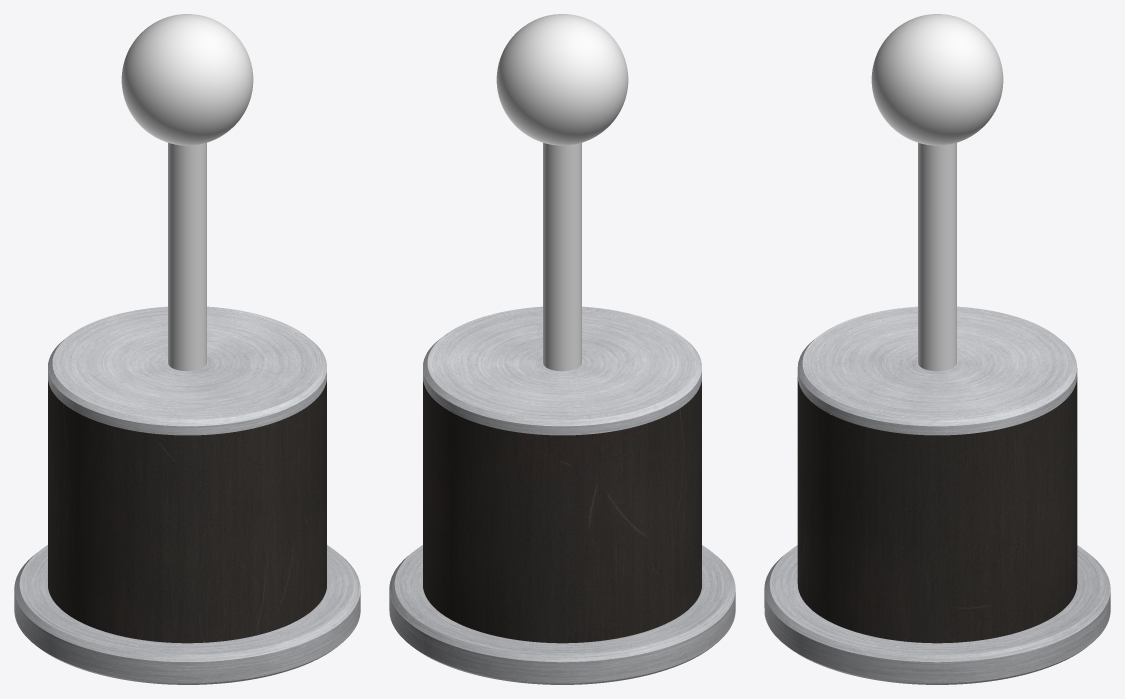
The model's file is pawn-black-hd.glb.
3 renders of one model, left to right at view 1: azimuth 30°, elevation 25°; view 2: azimuth 150°, elevation 25°; view 3: azimuth 270°, elevation 25°, orthographic.
Visible parts, largest first — view 1: ferro-orbis_pawn_black; view 2: ferro-orbis_pawn_black; view 3: ferro-orbis_pawn_black.
Part boxes in pixels (<box>): ferro-orbis_pawn_black: <box>14,14,360,684</box>; ferro-orbis_pawn_black: <box>389,14,735,684</box>; ferro-orbis_pawn_black: <box>764,14,1110,684</box>.
Size of the model in its own units: 0.4551 by 0.86 by 0.4551.
5 materials, 3 textured.
